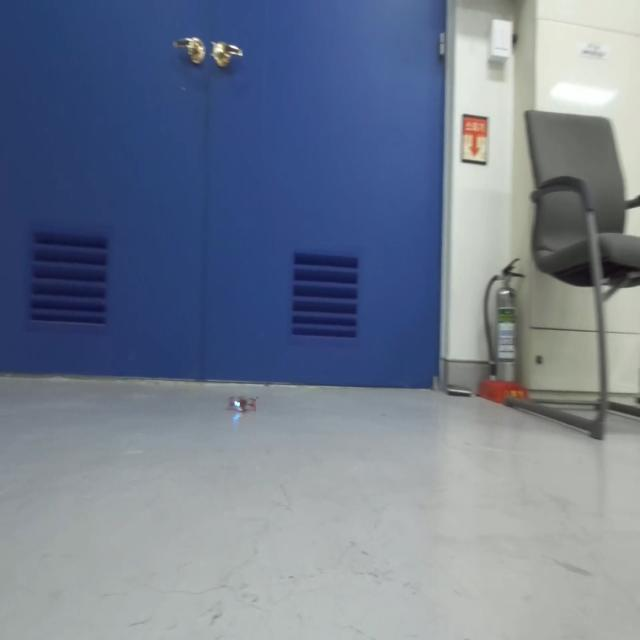crazyflie: (227, 392, 256, 417)
